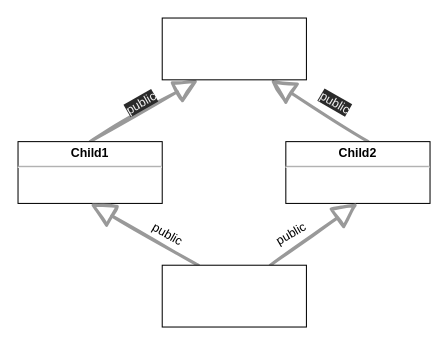
Image size: 448x345. Some labels were removed from this diagram. Each missing label, with the centre of its shape:
Grandchild +get_data : int (): (x=233, y=295)
Parent # base_data : int: (x=233, y=48)
